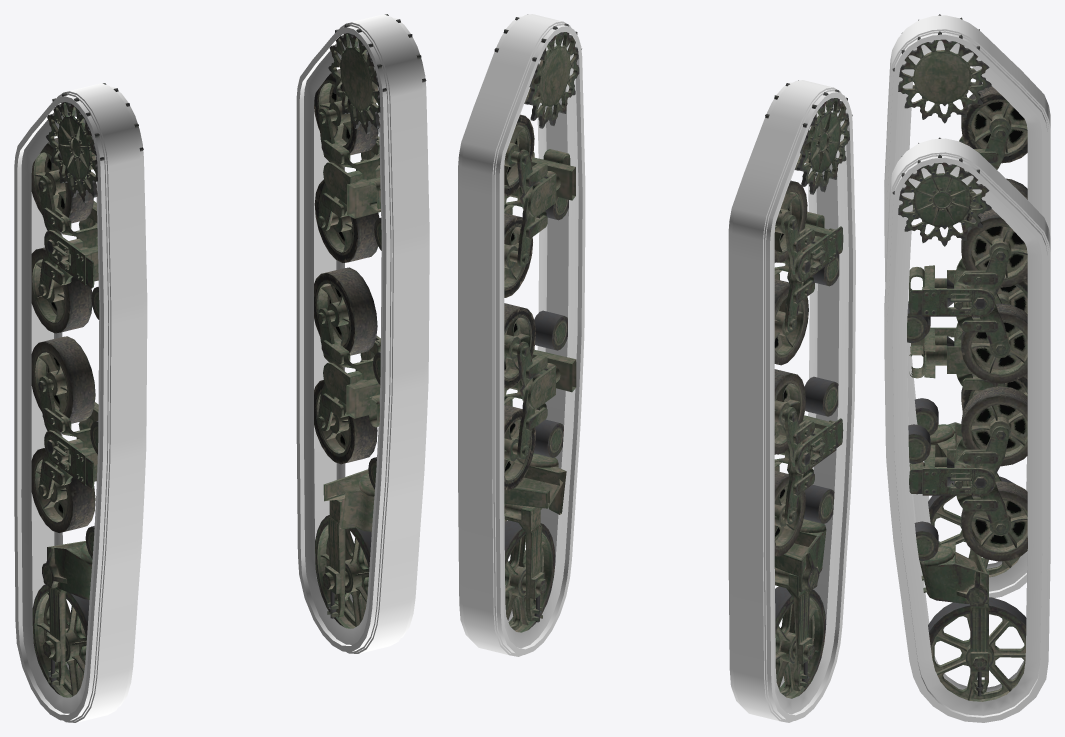
Rendered from Chassis.glb.
The picture shows the model from 3 angles, left to right: view 1: azimuth 30°, elevation 25°; view 2: azimuth 150°, elevation 25°; view 3: azimuth 270°, elevation 25°; orthographic projection. The views are drawn at different scales.
Parts seen in each view (by area): view 1: set_1_group_0, set_0_group_0, set_2_group_0, set_3_group_0; view 2: set_0_group_0, set_1_group_0, set_3_group_0, set_2_group_0; view 3: set_3_group_0, set_1_group_0, set_2_group_0, set_0_group_0.
Boxes of the visible parts, x1,y1,x2,y2 form: set_1_group_0: (296,14,429,653); set_0_group_0: (14,83,147,722); set_2_group_0: (31,83,143,697); set_3_group_0: (314,14,426,628); set_0_group_0: (728,80,855,722); set_1_group_0: (458,14,585,656); set_3_group_0: (494,14,581,632); set_2_group_0: (765,80,852,698); set_3_group_0: (892,137,1027,701); set_1_group_0: (884,138,1050,722); set_2_group_0: (892,14,1027,577); set_0_group_0: (884,15,1050,597).
Bounding box in the file's own units: 2.29 × 4.14 × 1.1.
Materials: 4 (2 with a texture image).
